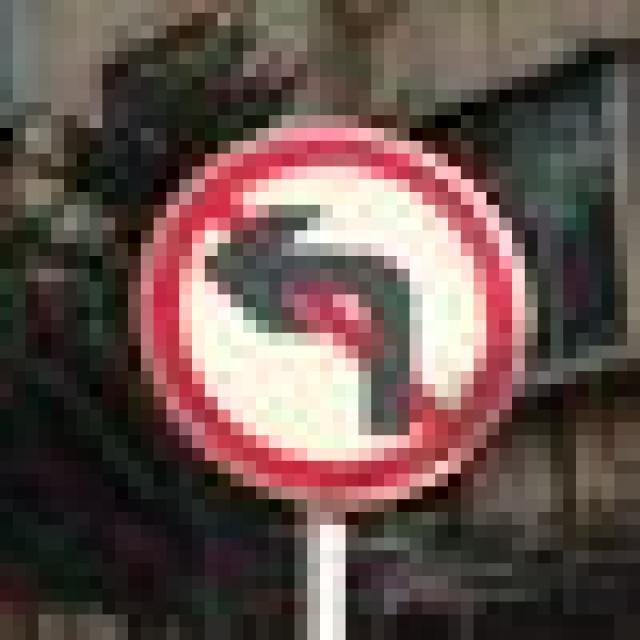left turn prohibited: (128, 111, 534, 519)
